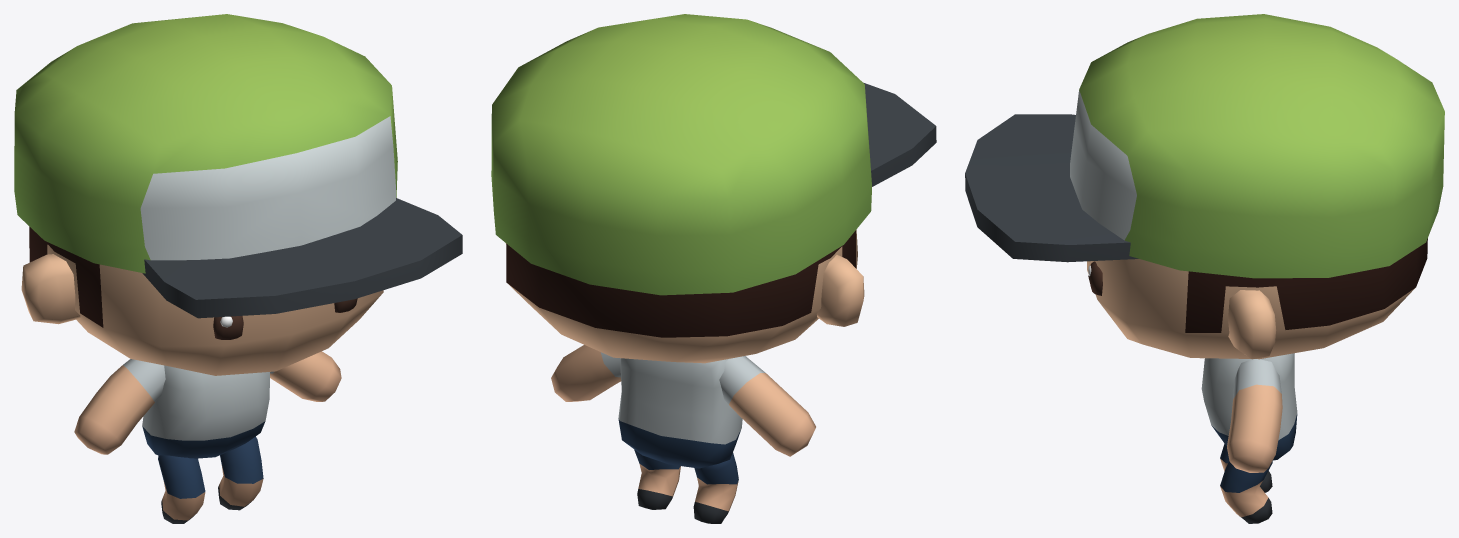
File: jump_0028.obj
3 views of the same model, side by side, from view 1: azimuth 30°, elevation 25°; view 2: azimuth 150°, elevation 25°; view 3: azimuth 270°, elevation 25° (orthographic). The views are drawn at different scales.
Visible parts, largest first — view 1: Object_41, Object_42, Object_44, Object_36, Object_38; view 2: Object_41, Object_44, Object_36, Object_42; view 3: Object_41, Object_36, Object_42, Object_44.
Boxes of the visible parts, x1,y1,x2,y2 form: Object_41: (14, 14, 397, 273); Object_42: (140, 116, 462, 318); Object_44: (74, 351, 341, 523); Object_36: (21, 226, 383, 375); Object_38: (213, 298, 357, 339); Object_41: (491, 14, 871, 295); Object_44: (551, 345, 815, 523); Object_36: (505, 229, 864, 363); Object_42: (863, 82, 936, 186); Object_41: (1079, 14, 1444, 278); Object_36: (1087, 238, 1427, 359); Object_42: (965, 90, 1138, 262); Object_44: (1201, 353, 1297, 523).
Size of the model in its own units: 0.9691 by 1.2 by 1.13.
